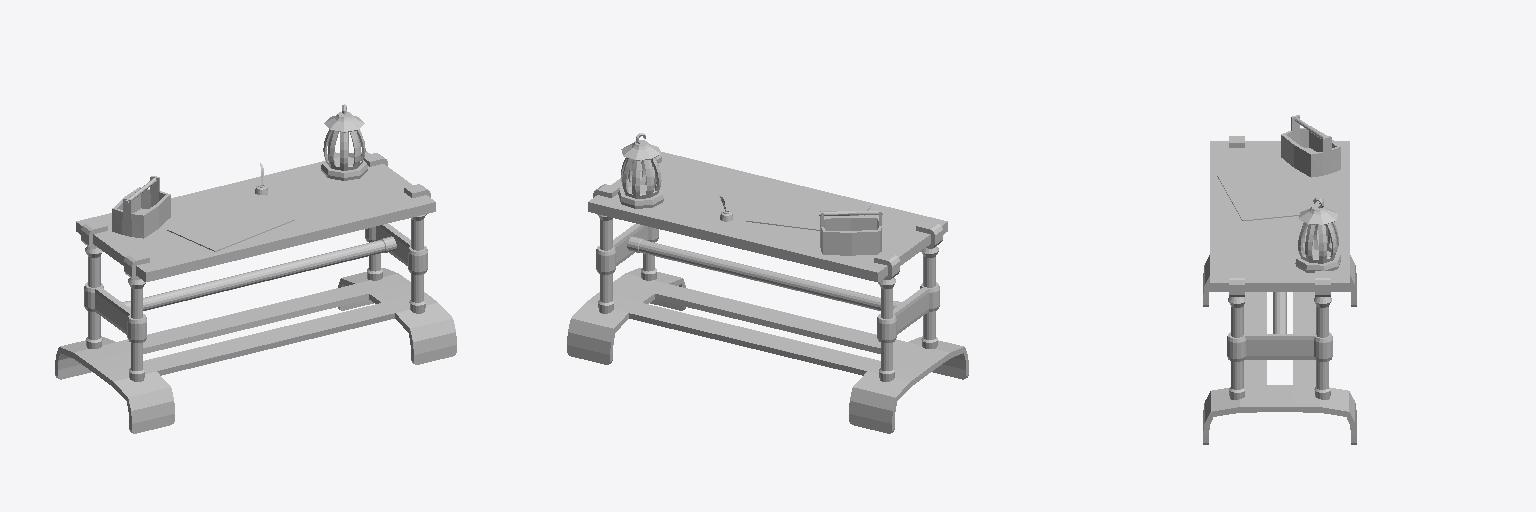
File: WorkBench.obj
3 views of the same model, side by side, from view 1: azimuth 30°, elevation 25°; view 2: azimuth 150°, elevation 25°; view 3: azimuth 270°, elevation 25° (orthographic).
Parts seen in each view (by area): view 1: WorkBench_Cylinder.002; view 2: WorkBench_Cylinder.002; view 3: WorkBench_Cylinder.002.
Boxes of the visible parts, <box> form: WorkBench_Cylinder.002: <box>55,104,456,433</box>; WorkBench_Cylinder.002: <box>567,133,968,433</box>; WorkBench_Cylinder.002: <box>1203,115,1356,444</box>.
Bounding box in the file's own units: 1.75 × 1.14 × 0.7196.